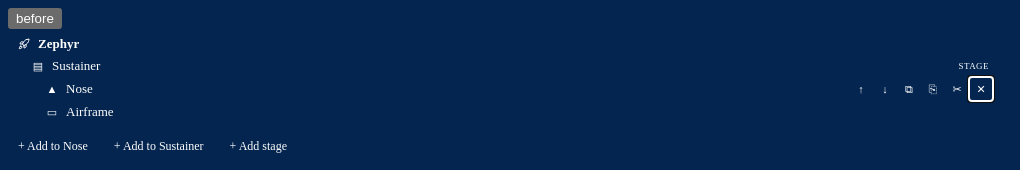
structural actions keep the keyboard in the tree › Delete and Cut land on the tree's tab stop, not <body>
Click the button "✕" at (981, 89), box 969,77 -> 993,101
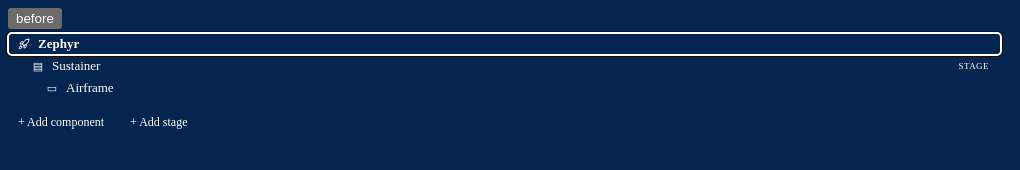
Expected: the text "Nose" is gone
Click the list item with class "tree-row" showing "▭ Airframe" at (80, 88), box 47,80 -> 114,95
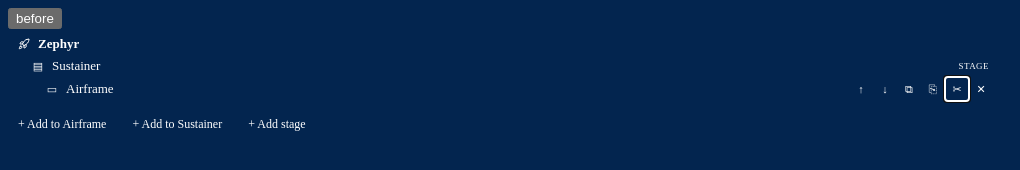
Click the button "✂" at (957, 89), box 945,77 -> 969,101
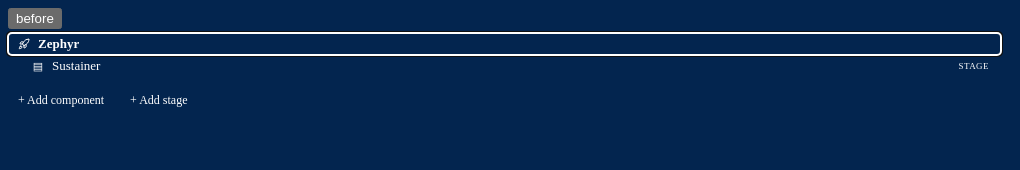
Expected: the text "Airframe" is gone
